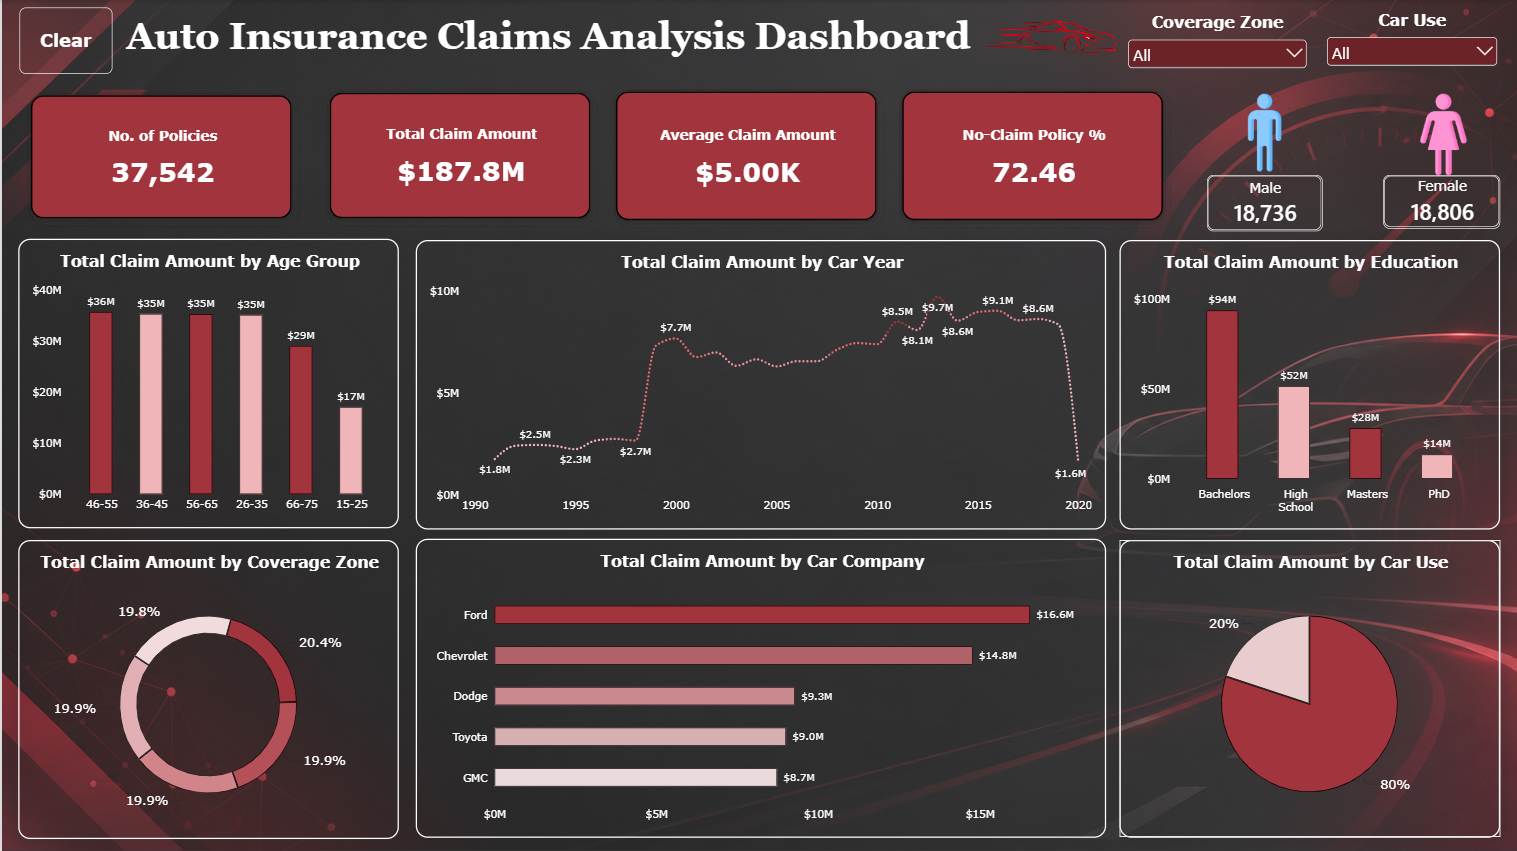

This screenshot's page, from the dashboard's own definition file:
{"tool":"powerbi","page":{"name":"Dashboard","canvas":[1920,1080],"ordinal":0},"visuals":[{"type":"textbox","box":[157.1,17.9,1076.8,62.5],"z":0},{"type":"cardVisual","fields":{"Data":["All Measures.Total Policies"]},"box":[20.9,104.7,362.8,188.4],"z":1000},{"type":"cardVisual","fields":{"Data":["Sum(insurance_data_car.Claim Amount)"]},"box":[398.3,101.2,362.8,191.9],"z":2000},{"type":"cardVisual","fields":{"Data":["Avg(insurance_data_car.Claim Amount)"]},"box":[760.5,99.4,362.8,195.3],"z":3000},{"type":"cardVisual","fields":{"Data":["All Measures.No-Claim Policy %"]},"box":[1123.3,99.4,362.8,195.3],"z":4000},{"type":"lineChart","title":"Total Claim Amount by Car Year","fields":{"Category":["insurance_data_car.Car Year"],"Y":["Sum(insurance_data_car.Claim Amount)"]},"box":[523.3,303.5,873.8,366.3],"z":5000},{"type":"clusteredColumnChart","title":"Total Claim Amount by Education","fields":{"Category":["insurance_data_car.Education"],"Y":["Sum(insurance_data_car.Claim Amount)"]},"box":[1414.5,303.5,481.4,366.3],"z":6000},{"type":"pieChart","title":"Total Claim Amount by Car Use","fields":{"Y":["Sum(insurance_data_car.Claim Amount)"],"Category":["insurance_data_car.Car Use"]},"box":[1414.5,683.7,481.4,376.7],"z":7000},{"type":"clusteredBarChart","title":"Total Claim Amount by Car Company","fields":{"Y":["Sum(insurance_data_car.Claim Amount)"],"Category":["insurance_data_car.Car Make"]},"box":[523.3,682,873.8,378.5],"z":8000},{"type":"clusteredColumnChart","title":"Total Claim Amount by Age Group","fields":{"Y":["Sum(insurance_data_car.Claim Amount)"],"Category":["insurance_data_car.Age Group"]},"box":[20.6,302.6,481.6,366.4],"z":9000},{"type":"donutChart","title":"Total Claim Amount by Coverage Zone","fields":{"Category":["insurance_data_car.Coverage Zone"],"Y":["Sum(insurance_data_car.Claim Amount)"]},"box":[20.9,683.7,481.4,378.5],"z":10000},{"type":"image","box":[1541.1,117.9,114.3,98.2],"z":11000},{"type":"image","box":[1766.1,117.9,114.3,103.6],"z":12000},{"type":"cardVisual","fields":{"Data":["All Measures.Male Count"]},"box":[1525,221.4,146.4,71.4],"z":13000},{"type":"cardVisual","fields":{"Data":["All Measures.Female Count"]},"box":[1748.2,221.4,148.2,67.9],"z":14000},{"type":"image","box":[1212.5,10.7,185.7,83.9],"z":15000},{"type":"slicer","title":"Car Use","fields":{"Values":["insurance_data_car.Car Use"]},"box":[1671.4,12.5,225,83.9],"z":16000},{"type":"slicer","title":"Coverage Zone","fields":{"Values":["insurance_data_car.Coverage Zone"]},"box":[1419.6,16.1,235.7,80.4],"z":17000},{"type":"actionButton","title":"Clear","box":[21.4,8.9,117.9,83.9],"z":18000}]}

Visuals, with their boxes in screenshot pixels (x1, y1, x2, y2), scaled from the page's 1920x1080 canvas onto the 1517x851 screenshot:
textbox: box(124, 14, 975, 63)
cardVisual - All Measures.Total Policies: box(17, 82, 303, 231)
cardVisual - Sum(insurance_data_car.Claim Amount): box(315, 80, 601, 231)
cardVisual - Avg(insurance_data_car.Claim Amount): box(601, 78, 888, 232)
cardVisual - All Measures.No-Claim Policy %: box(888, 78, 1174, 232)
"Total Claim Amount by Car Year" lineChart: box(413, 239, 1104, 528)
"Total Claim Amount by Education" clusteredColumnChart: box(1118, 239, 1498, 528)
"Total Claim Amount by Car Use" pieChart: box(1118, 539, 1498, 836)
"Total Claim Amount by Car Company" clusteredBarChart: box(413, 537, 1104, 836)
"Total Claim Amount by Age Group" clusteredColumnChart: box(16, 238, 397, 527)
"Total Claim Amount by Coverage Zone" donutChart: box(17, 539, 397, 837)
image: box(1218, 93, 1308, 170)
image: box(1395, 93, 1486, 175)
cardVisual - All Measures.Male Count: box(1205, 174, 1321, 231)
cardVisual - All Measures.Female Count: box(1381, 174, 1498, 228)
image: box(958, 8, 1105, 75)
"Car Use" slicer: box(1321, 10, 1498, 76)
"Coverage Zone" slicer: box(1122, 13, 1308, 76)
"Clear" actionButton: box(17, 7, 110, 73)
